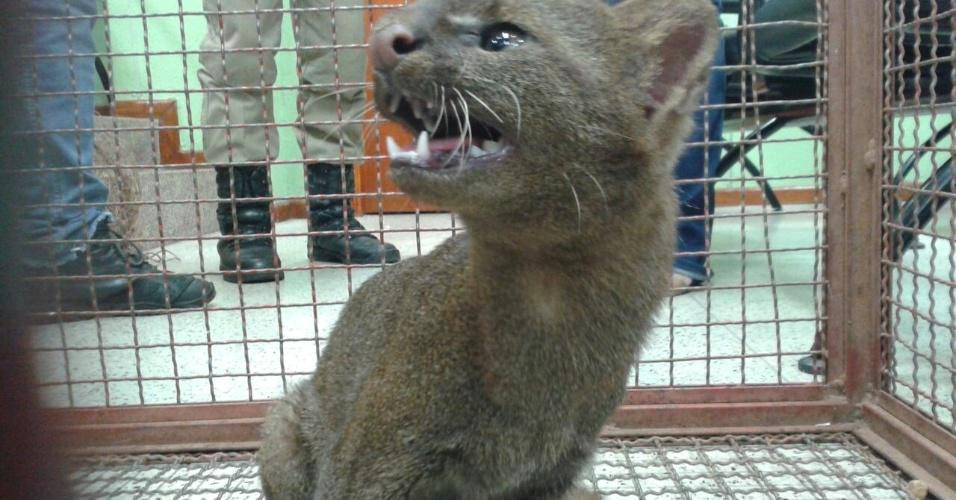Jaguarundi: (138, 5, 760, 492)
